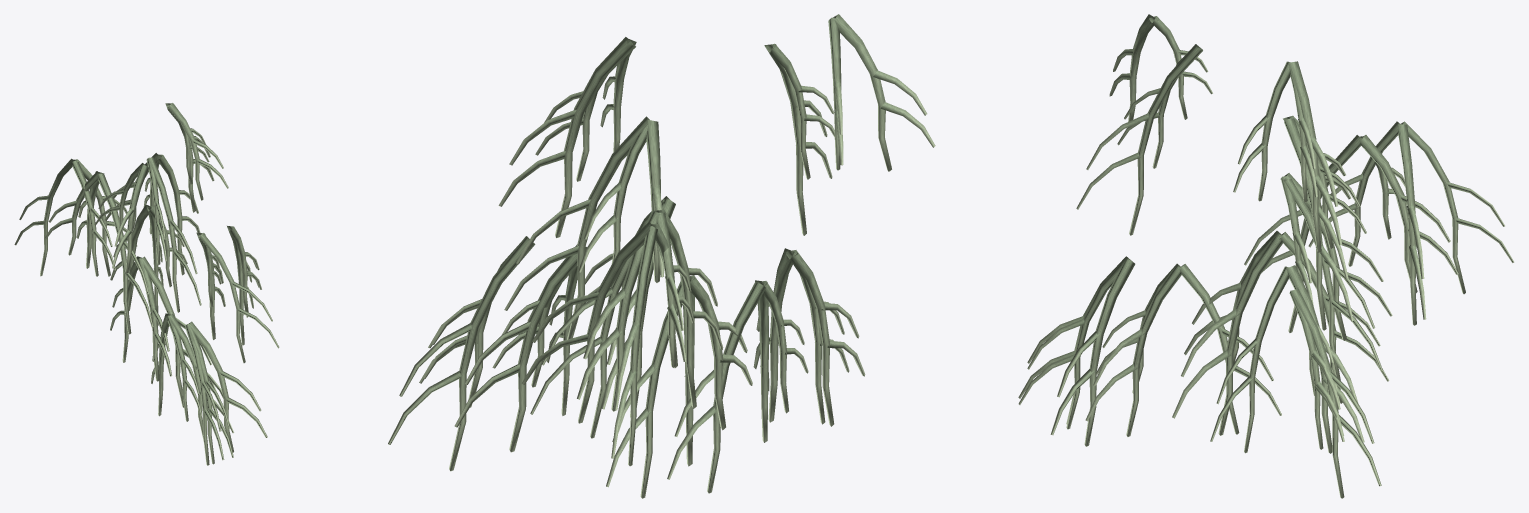
Rendered from beardlichenfruit.glb.
3 views of the same model, side by side, from view 1: azimuth 30°, elevation 25°; view 2: azimuth 150°, elevation 25°; view 3: azimuth 270°, elevation 25° (orthographic). The views are drawn at different scales.
Parts seen in each view (by area): view 1: beardlichenfruit; view 2: beardlichenfruit; view 3: beardlichenfruit.
Boxes of the visible parts, x1=… form: beardlichenfruit: x1=14, y1=103, x2=279, y2=465; beardlichenfruit: x1=388, y1=14, x2=935, y2=498; beardlichenfruit: x1=1018, y1=14, x2=1514, y2=498.
Size of the model in its own units: 0.2923 by 0.337 by 0.3838.
Materials: 1 (1 with a texture image).
